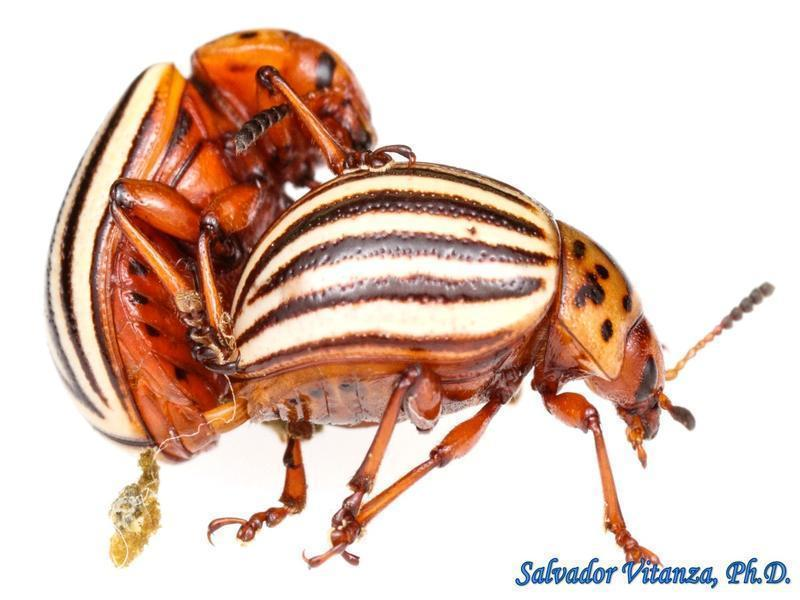hrosc: (221, 153, 712, 574), (29, 17, 350, 494)
